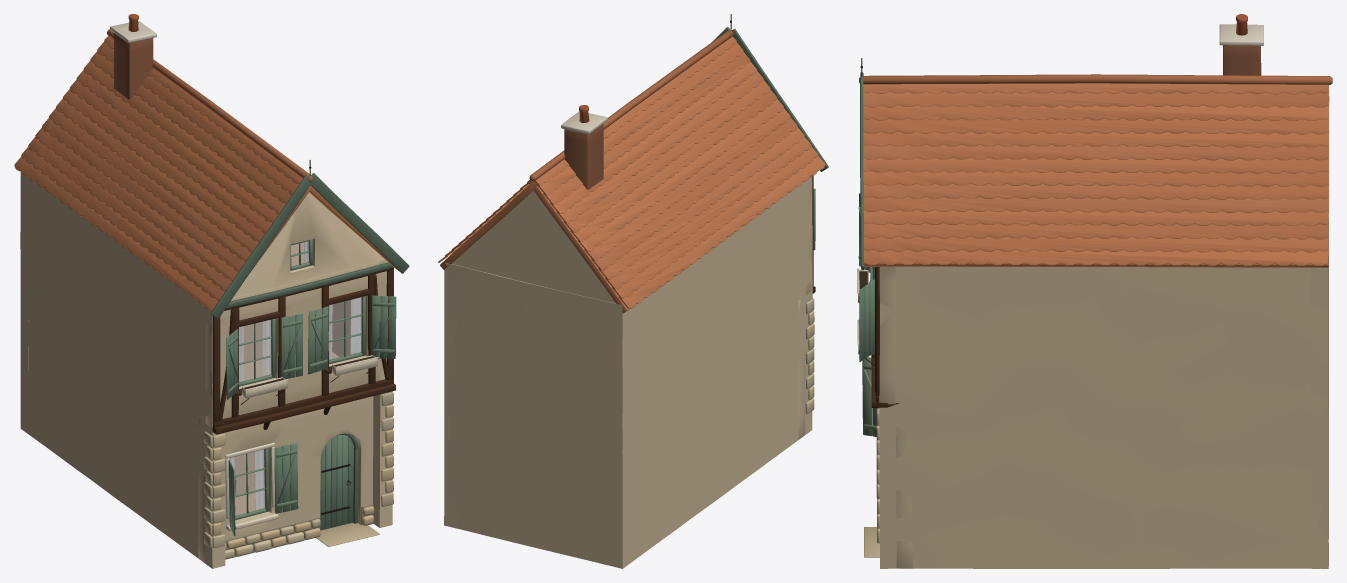
The model's file is Opposite_Opposite1_3.glb.
The picture shows the model from 3 angles, left to right: view 1: azimuth 30°, elevation 25°; view 2: azimuth 150°, elevation 25°; view 3: azimuth 270°, elevation 25°; orthographic projection. The views are drawn at different scales.
Parts seen in each view (by area): view 1: Sammel Putz, Sammel Stein, Sammel Lack, Sammel Holz, Glas, Sammel Putz innen, Vorhang Leinen, Sammel Ziegel; view 2: Sammel Putz, Sammel Stein, Sammel Ziegel, Sammel Lack; view 3: Sammel Putz, Sammel Stein, Sammel Lack, Sammel Ziegel, Sammel Holz.
Boxes of the visible parts, x1=… form: Sammel Putz: x1=20, y1=14, x2=392, y2=568; Sammel Stein: x1=14, y1=29, x2=398, y2=559; Sammel Lack: x1=210, y1=173, x2=409, y2=536; Sammel Holz: x1=212, y1=267, x2=395, y2=434; Glas: x1=229, y1=241, x2=361, y2=515; Sammel Putz innen: x1=234, y1=242, x2=355, y2=514; Vorhang Leinen: x1=229, y1=241, x2=361, y2=509; Sammel Ziegel: x1=113, y1=33, x2=153, y2=99; Sammel Putz: x1=444, y1=105, x2=812, y2=568; Sammel Stein: x1=438, y1=29, x2=825, y2=414; Sammel Ziegel: x1=564, y1=124, x2=603, y2=189; Sammel Lack: x1=712, y1=27, x2=828, y2=250; Sammel Putz: x1=859, y1=14, x2=1328, y2=568; Sammel Stein: x1=859, y1=74, x2=1332, y2=557; Sammel Lack: x1=857, y1=72, x2=876, y2=436; Sammel Ziegel: x1=1223, y1=45, x2=1261, y2=75; Sammel Holz: x1=871, y1=267, x2=898, y2=408.
Bounding box in the file's own units: 4.95 × 10.06 × 8.8.
